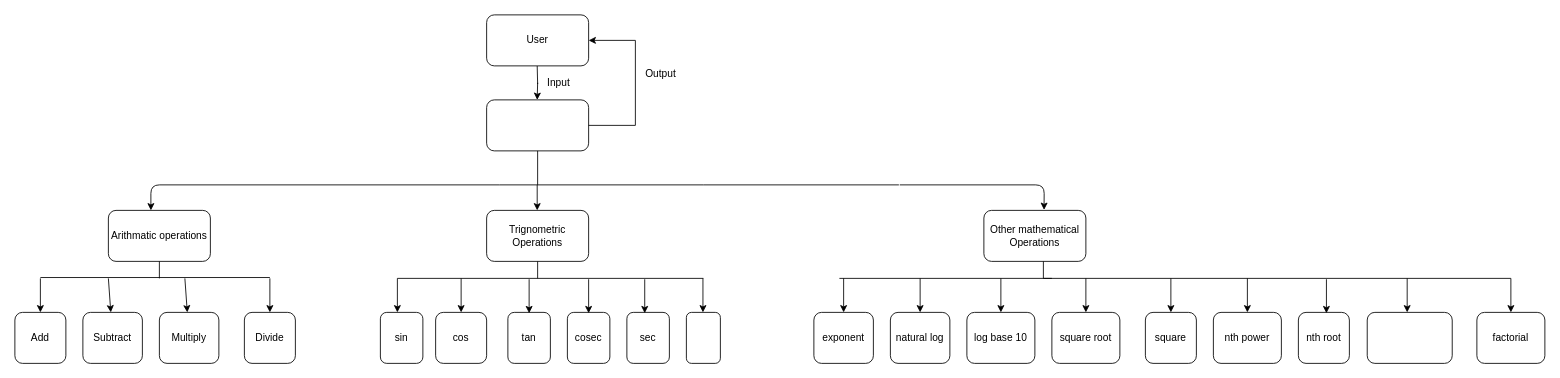
This 1560x378 diagram has some shape labels left out. Each missing label, with the centre of its shape:
"cot" belongs at point (703, 337).
"Scientific_Calculator" belongs at point (537, 125).
"xth power of 10" belongs at point (1409, 337).
